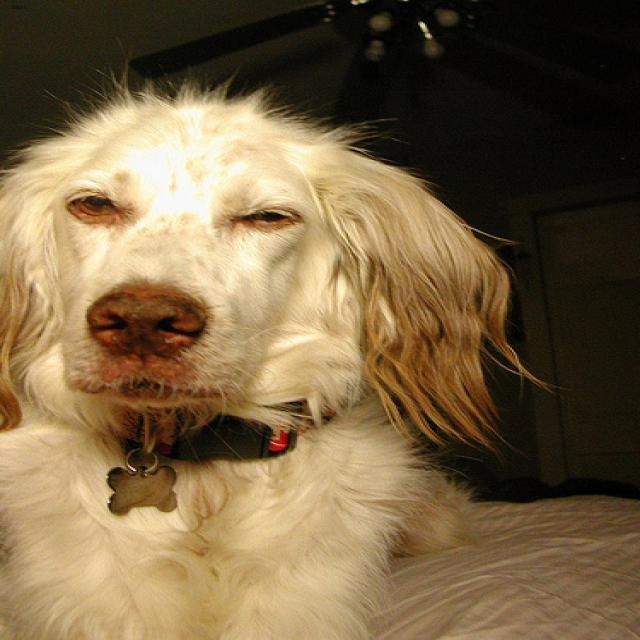dog-english_setter: (2, 56, 573, 637)
